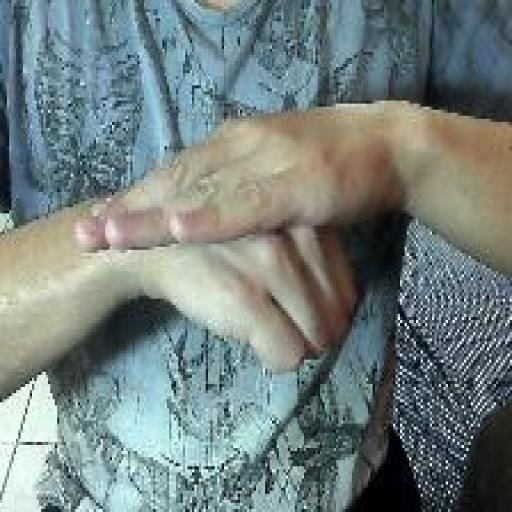Inu -dog-: (73, 108, 361, 380)
